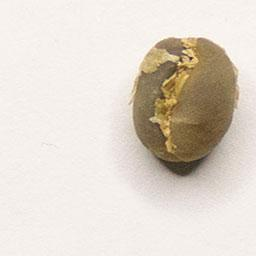peaberry: (127, 33, 241, 168)
